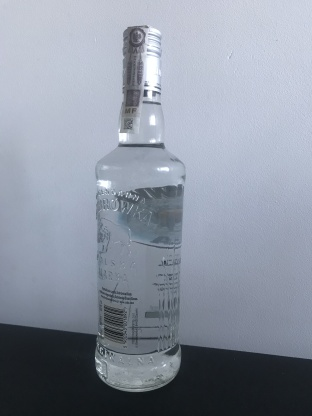nakretka: (120, 21, 164, 97)
